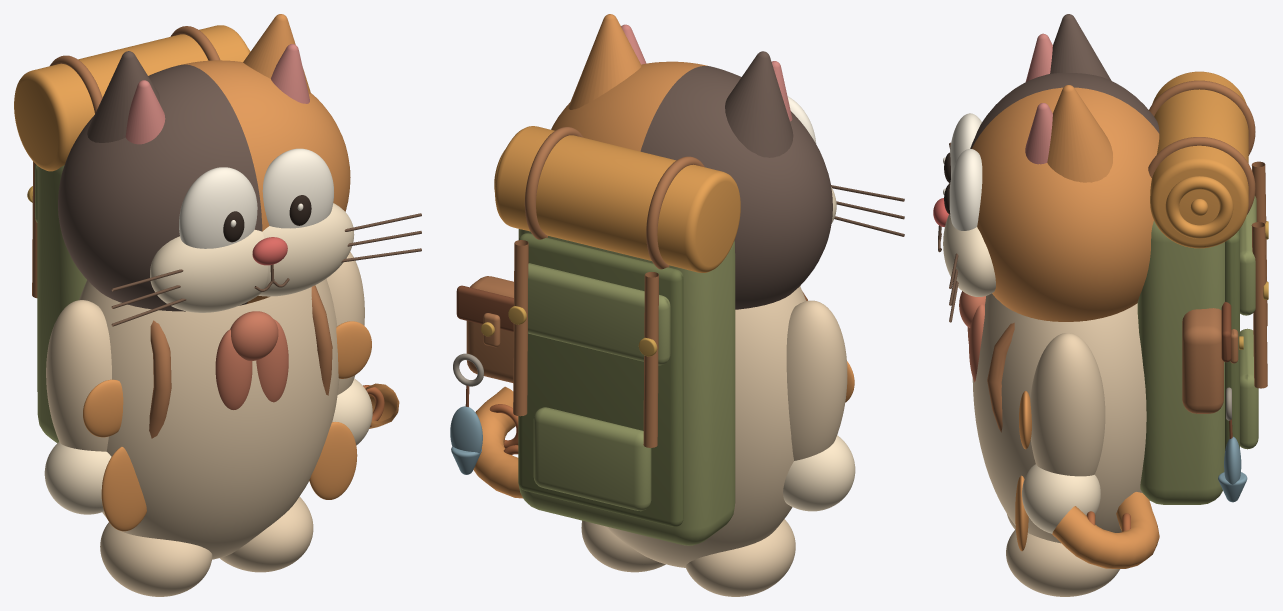
Rendered from aju-explorer-cat-v2.glb.
3 views of the same model, side by side, from view 1: azimuth 30°, elevation 25°; view 2: azimuth 150°, elevation 25°; view 3: azimuth 270°, elevation 25° (orthographic). The views are drawn at different scales.
Visible parts, largest first — view 1: BODY_Main, HEAD_Main, BEDROLL_Main, ARM_L, MUZZLE_L, BACKPACK_Main, FOOT_L, MUZZLE_R, EYE_L_White, EYE_R_White, PAW_L, FOOT_R (+20 smaller); view 2: HEAD_Main, BEDROLL_Main, BACKPACK_Back_Panel, BACKPACK_Main, BODY_Main, BACKPACK_Lower_Pocket, BACKPACK_Top_Flap, ARM_L, EAR_L_Outer, FOOT_L, PAW_L, EAR_R_Outer (+9 smaller); view 3: HEAD_Main, BODY_Main, BACKPACK_Main, BEDROLL_Main, ARM_R, TAIL_Main, EAR_R_Outer, FOOT_R, SIDE_POUCH, PAW_R, MUZZLE_R, EYE_R_White (+20 smaller).
Part boxes in pixels (x1,y1,x2,y2): BODY_Main: (79, 278, 339, 559); HEAD_Main: (58, 60, 350, 311); BEDROLL_Main: (14, 25, 249, 171); ARM_L: (46, 300, 111, 451); MUZZLE_L: (150, 229, 267, 312); BACKPACK_Main: (37, 165, 86, 443); FOOT_L: (100, 522, 212, 596); MUZZLE_R: (258, 203, 354, 296); EYE_L_White: (179, 167, 257, 248); EYE_R_White: (262, 148, 333, 228); PAW_L: (44, 442, 111, 514); FOOT_R: (219, 496, 313, 572); HEAD_Main: (551, 61, 832, 309); BEDROLL_Main: (495, 126, 740, 272); BACKPACK_Back_Panel: (518, 233, 683, 526); BACKPACK_Main: (518, 229, 735, 545); BODY_Main: (606, 286, 805, 567); BACKPACK_Lower_Pocket: (533, 407, 651, 511); BACKPACK_Top_Flap: (528, 263, 670, 365); ARM_L: (786, 300, 847, 460); EAR_L_Outer: (725, 51, 793, 157); FOOT_L: (685, 519, 795, 596); PAW_L: (783, 435, 855, 511); EAR_R_Outer: (568, 14, 641, 109); HEAD_Main: (970, 73, 1159, 321); BODY_Main: (972, 293, 1146, 543); BACKPACK_Main: (1137, 221, 1224, 504); BEDROLL_Main: (1150, 71, 1248, 248); ARM_R: (1030, 333, 1105, 476); TAIL_Main: (1052, 492, 1159, 568); EAR_R_Outer: (1047, 85, 1112, 182); FOOT_R: (1006, 529, 1119, 596); SIDE_POUCH: (1182, 308, 1223, 413); PAW_R: (1022, 464, 1100, 533); MUZZLE_R: (943, 214, 995, 296); EYE_R_White: (949, 149, 982, 230).
Bounding box in the file's own units: 3.22 × 4.63 × 2.72.
